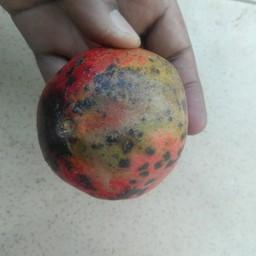Bad_pomegranate: (32, 42, 192, 203)
